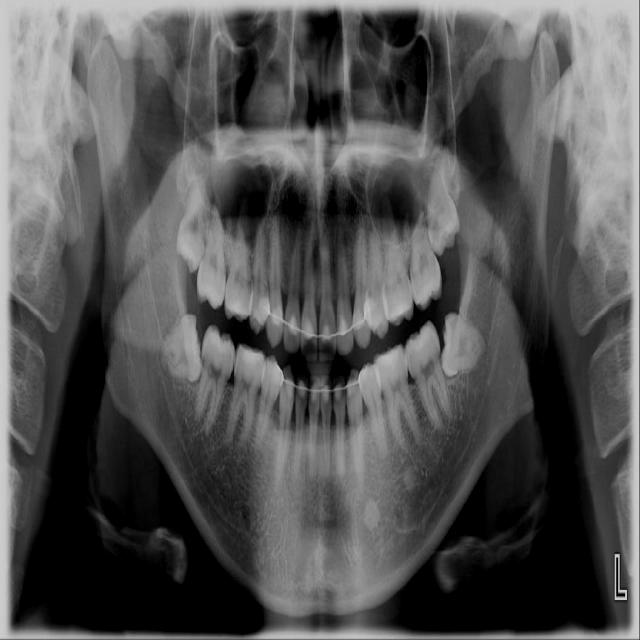impacted tooth: (159, 308, 203, 383), (425, 161, 460, 255), (175, 169, 206, 274), (441, 313, 488, 375)
